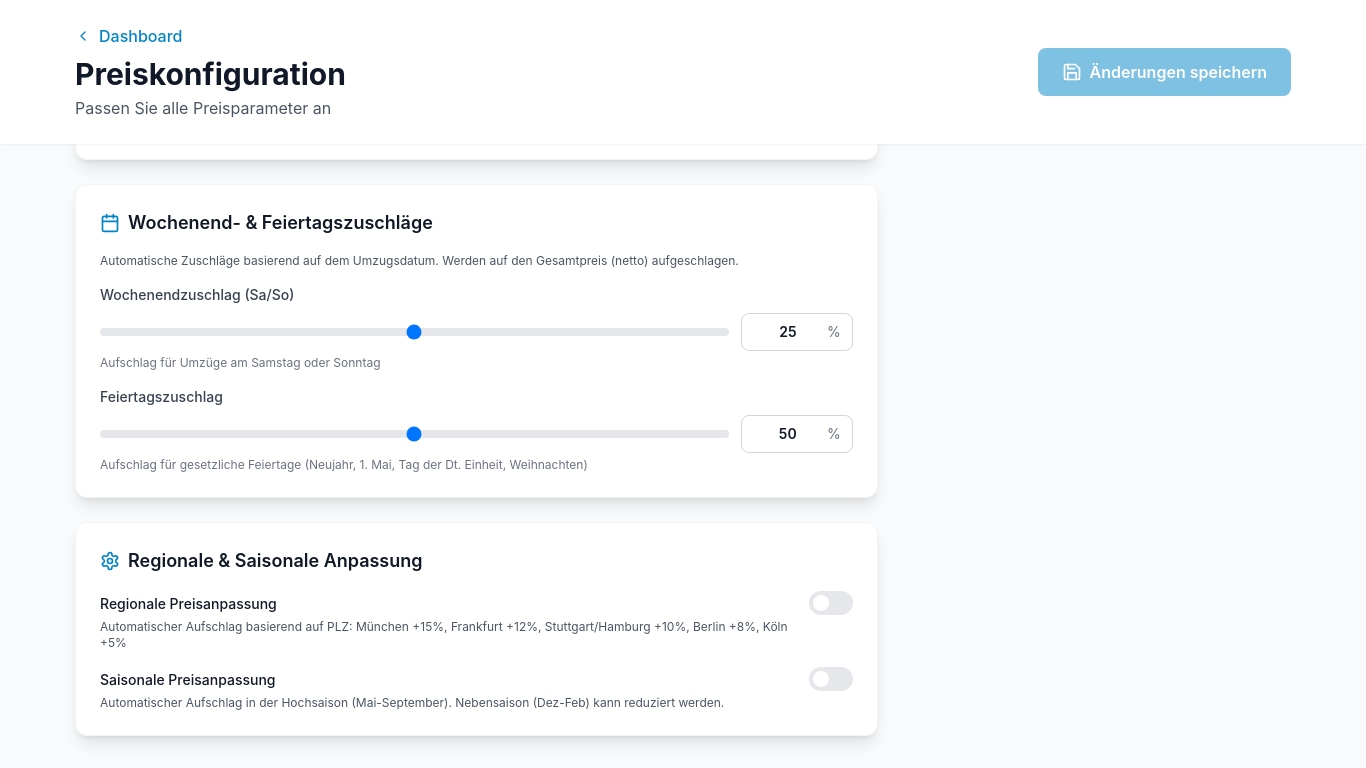
Test case: Toggle switches › seasonal inputs appear when toggle is clicked
(page scrolled)
Click the button without text in the row of "Saisonale Preisanpassung": (831, 679) [809, 667, 853, 691]
(page scrolled)
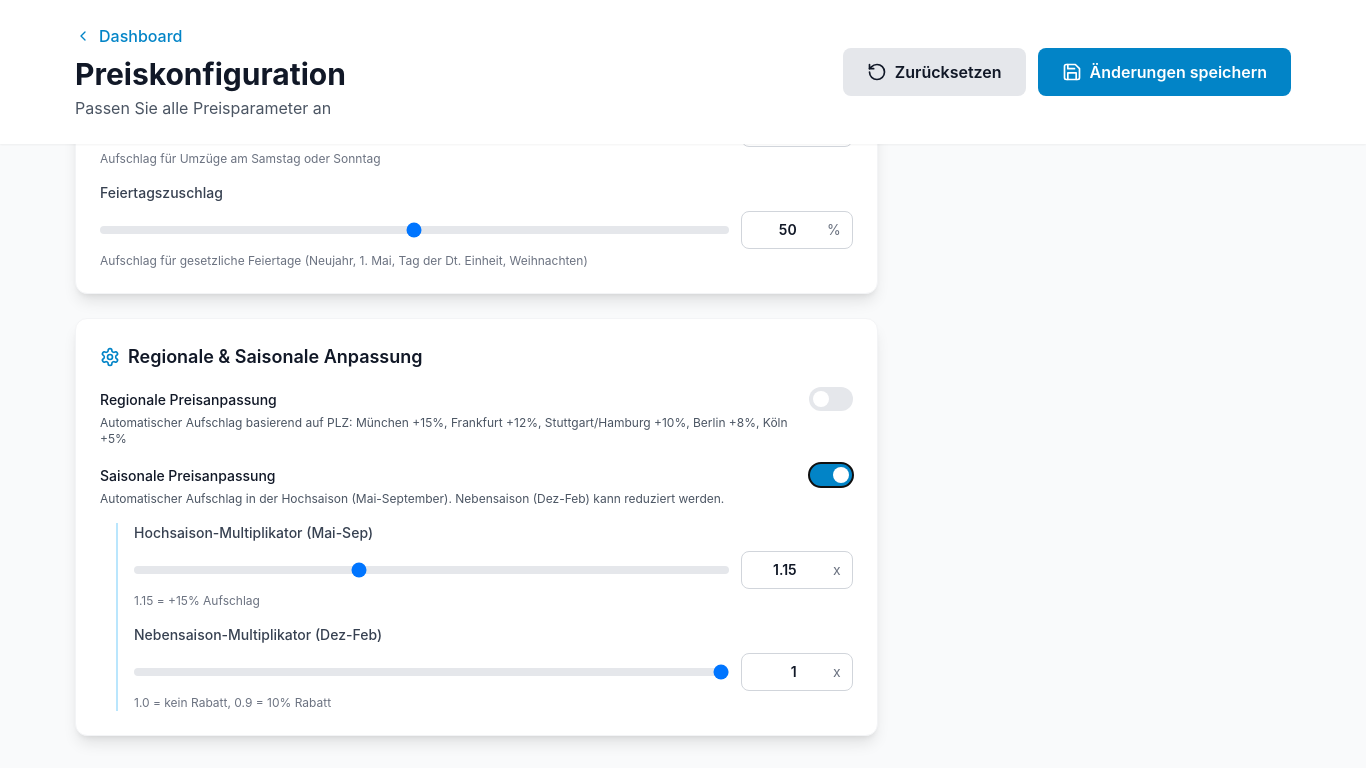
Result: the text "Hochsaison-Multiplikator (Mai-Sep)" is shown at [134, 524, 373, 541]
Result: the text "Nebensaison-Multiplikator (Dez-Feb)" is shown at [134, 626, 382, 643]
